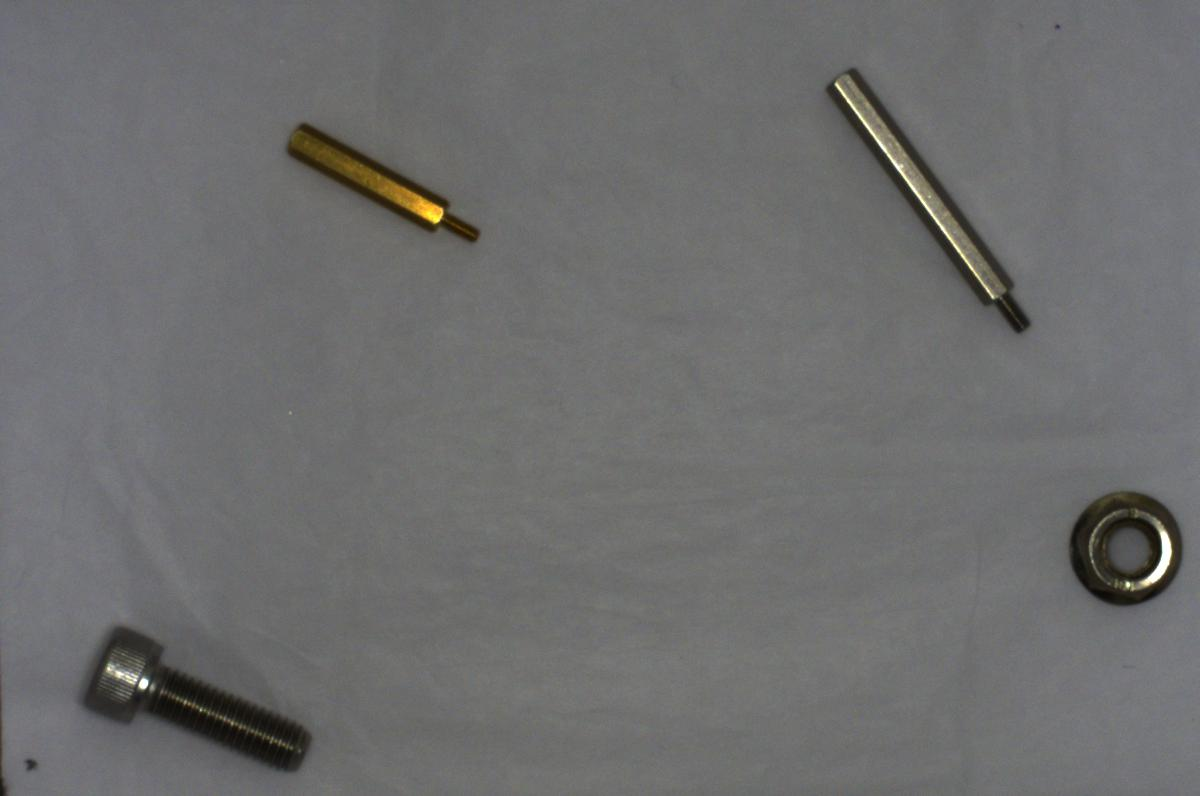Flange nut: (1066, 478, 1187, 607)
Hexagon pillar: (278, 116, 491, 249)
Hexagon screw: (72, 622, 319, 772)
Hexagonal steel column: (828, 65, 1031, 342)
